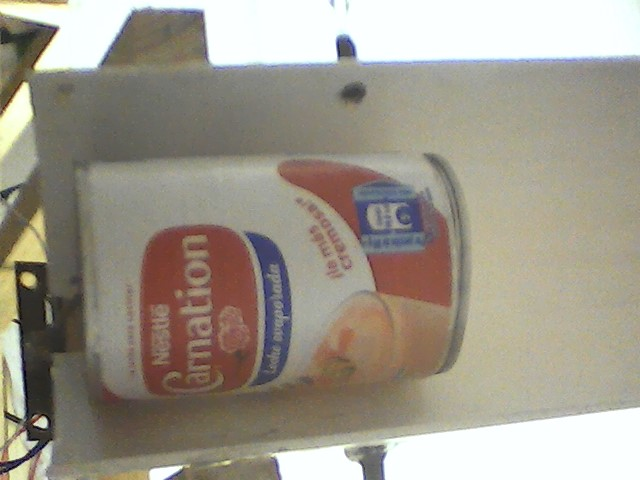lata: (62, 148, 480, 410)
